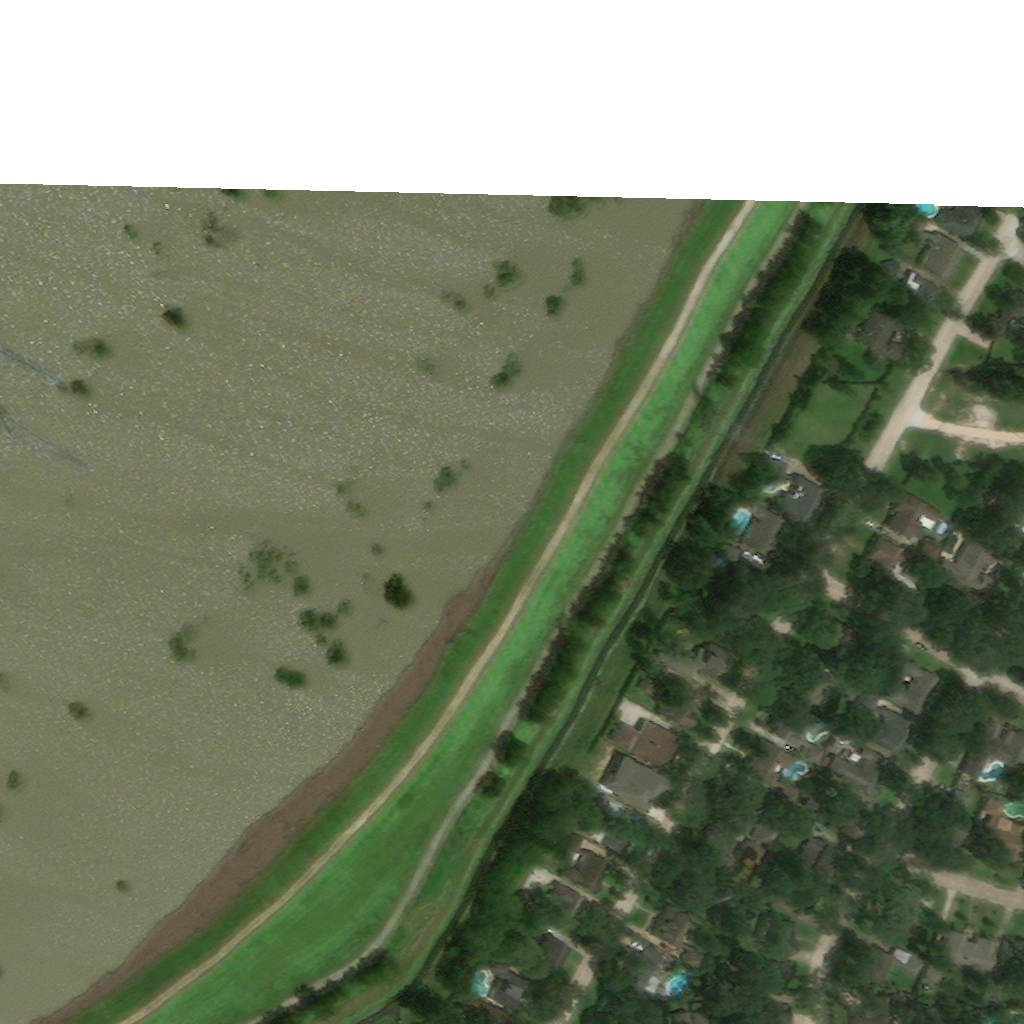no_damage: (856, 273, 945, 368), (641, 646, 725, 734), (653, 877, 711, 975), (905, 214, 969, 284), (929, 929, 1000, 988), (790, 655, 869, 707), (938, 532, 1000, 593), (967, 720, 1022, 782), (882, 654, 940, 712), (607, 757, 665, 813), (795, 816, 846, 879), (862, 695, 912, 758), (863, 945, 928, 990), (562, 834, 609, 894), (890, 491, 944, 542), (492, 954, 537, 1015), (616, 723, 677, 768), (745, 741, 802, 789), (881, 889, 927, 948), (516, 919, 571, 968), (737, 954, 791, 999), (986, 798, 1022, 865), (777, 474, 826, 523), (741, 799, 784, 852), (548, 883, 590, 937), (741, 507, 784, 556), (775, 704, 827, 744), (701, 826, 741, 876), (830, 760, 886, 795), (631, 949, 668, 1000), (938, 196, 981, 239), (763, 913, 799, 964), (990, 291, 1022, 345), (854, 997, 908, 1023), (870, 538, 910, 573), (795, 872, 828, 911), (995, 502, 1022, 536), (764, 459, 790, 483), (603, 997, 627, 1023), (923, 541, 944, 565), (994, 977, 1013, 995), (679, 1016, 711, 1023)
